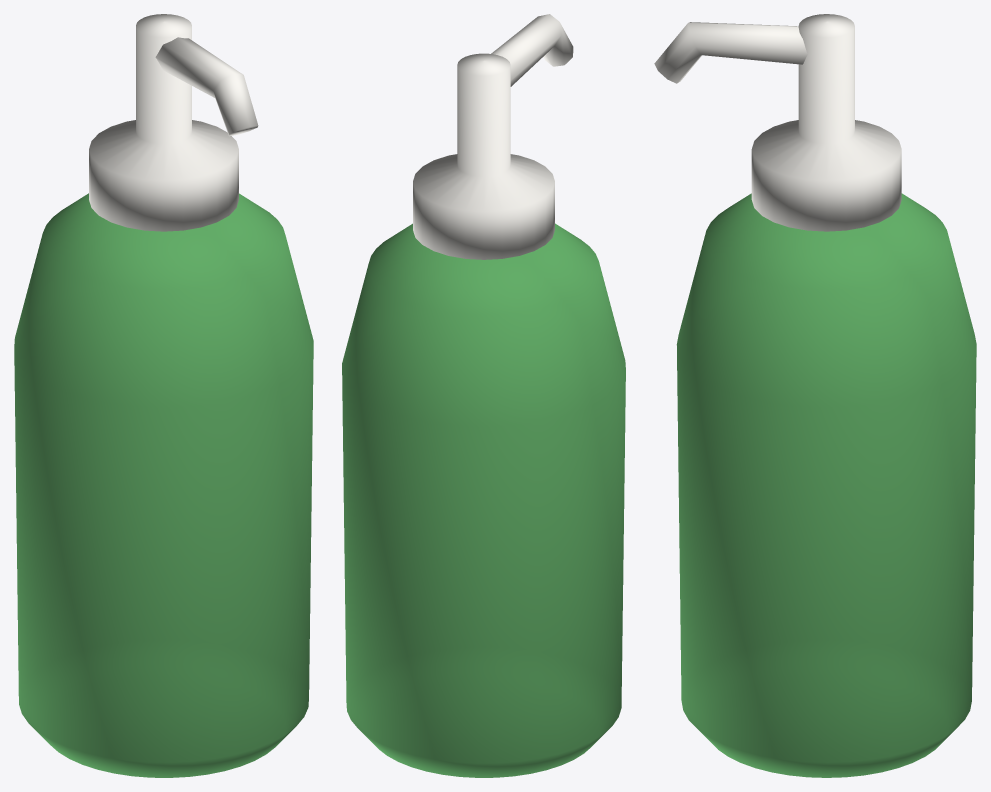
File: props-soapdispenser.glb
3 renders of one model, left to right at view 1: azimuth 30°, elevation 25°; view 2: azimuth 150°, elevation 25°; view 3: azimuth 270°, elevation 25°, orthographic. The views are drawn at different scales.
Visible parts, largest first — view 1: SoapDispenser__Bottle, SoapDispenser__Pump; view 2: SoapDispenser__Bottle, SoapDispenser__Pump; view 3: SoapDispenser__Bottle, SoapDispenser__Pump.
Part boxes in pixels (left/top/right/bottom): SoapDispenser__Bottle: left=14, top=193, right=313, bottom=777; SoapDispenser__Pump: left=89, top=14, right=258, bottom=231; SoapDispenser__Bottle: left=342, top=223, right=625, bottom=777; SoapDispenser__Pump: left=413, top=14, right=573, bottom=259; SoapDispenser__Bottle: left=676, top=193, right=976, bottom=777; SoapDispenser__Pump: left=654, top=14, right=901, bottom=231.
Size of the model in its own units: 6.4 by 16.6 by 6.88.
